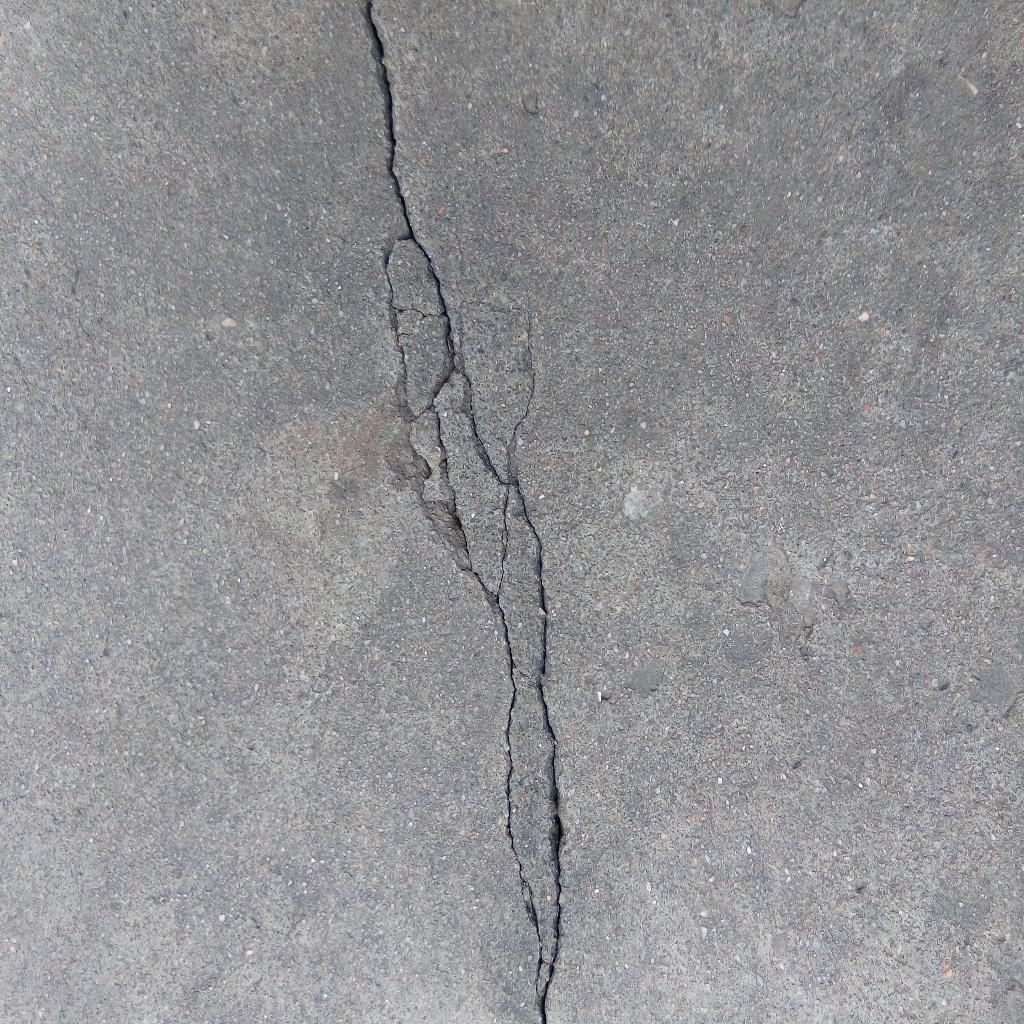Crack: (364, 1, 565, 1024)
